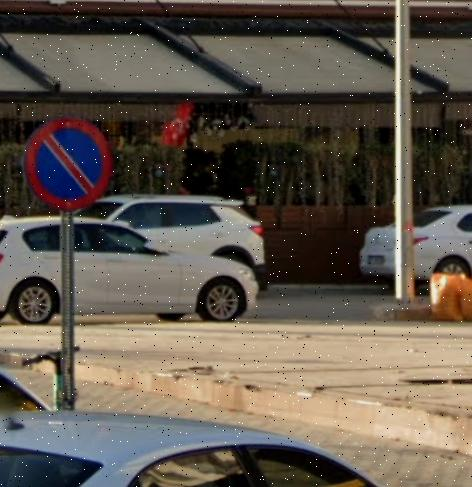nopark: (27, 120, 113, 210)
